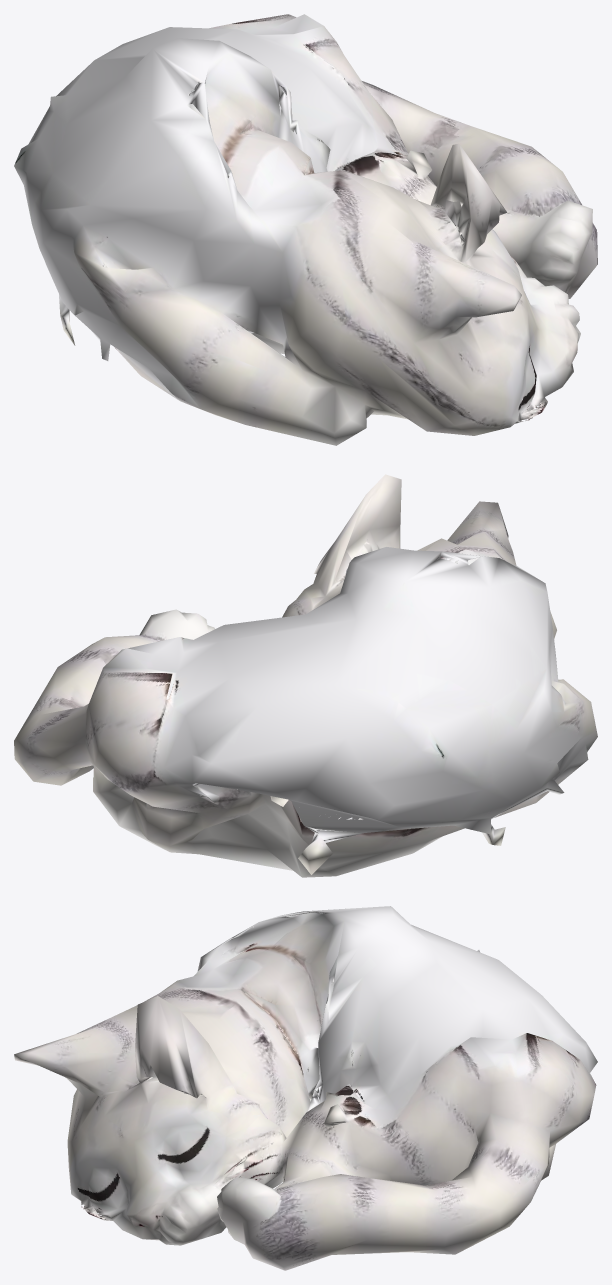
File: toad-posed-cat-asleep.glb
The picture shows the model from 3 angles, top to bottom: view 1: azimuth 30°, elevation 25°; view 2: azimuth 150°, elevation 25°; view 3: azimuth 270°, elevation 25°; orthographic projection. The views are drawn at different scales.
Parts seen in each view (by area): view 1: toad-posed-cat-asleep; view 2: toad-posed-cat-asleep; view 3: toad-posed-cat-asleep.
Part boxes in pixels (x1=…): toad-posed-cat-asleep: x1=14, y1=14, x2=597, y2=445; toad-posed-cat-asleep: x1=14, y1=474, x2=597, y2=877; toad-posed-cat-asleep: x1=14, y1=906, x2=597, y2=1270.
Bounding box in the file's own units: 0.2499 × 0.1346 × 0.3062.
1 material, 1 textured.
